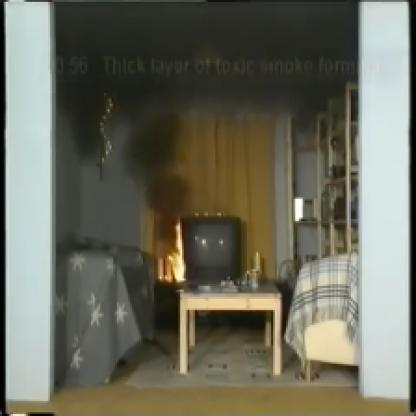fire: (162, 210, 201, 292)
